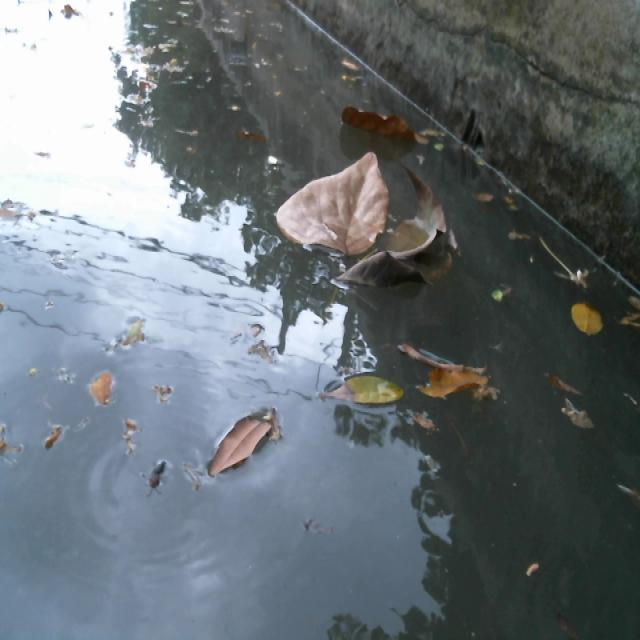Big-leaf: (336, 167, 464, 299), (275, 150, 388, 261), (404, 337, 505, 421), (345, 97, 438, 154)
Small-leaf: (207, 394, 280, 501), (314, 342, 406, 423), (81, 358, 135, 436), (563, 285, 615, 364), (550, 366, 595, 444), (221, 110, 274, 148), (338, 48, 370, 84)
